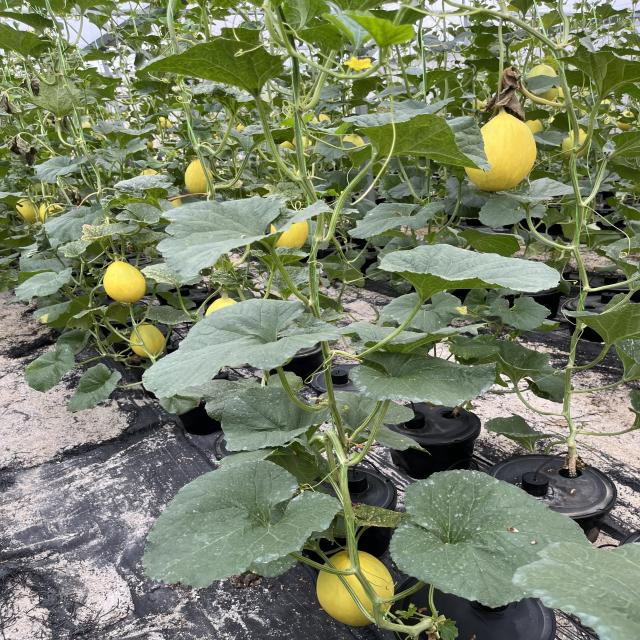CMV: (374, 242, 562, 302), (365, 104, 491, 178), (152, 31, 282, 95), (140, 263, 192, 287), (81, 220, 128, 245), (58, 238, 86, 262)
SLCV: (103, 180, 168, 213), (246, 247, 309, 270), (211, 268, 238, 288)
alternaria leaf blight: (32, 298, 68, 328)
bacterial wilt: (494, 70, 531, 116)
downy mildew: (146, 302, 316, 402), (160, 187, 280, 271), (486, 299, 557, 330)
healthy: (565, 42, 640, 100), (588, 301, 640, 345)
powdery mildew: (388, 466, 572, 603), (133, 454, 312, 576), (523, 536, 640, 640), (335, 352, 494, 412), (206, 388, 316, 458), (464, 336, 552, 386), (354, 197, 443, 242), (19, 342, 77, 394), (64, 368, 127, 413), (487, 417, 545, 450)
